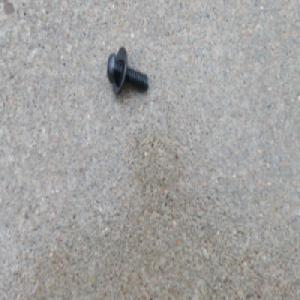BoltWasher: (106, 45, 149, 95)
